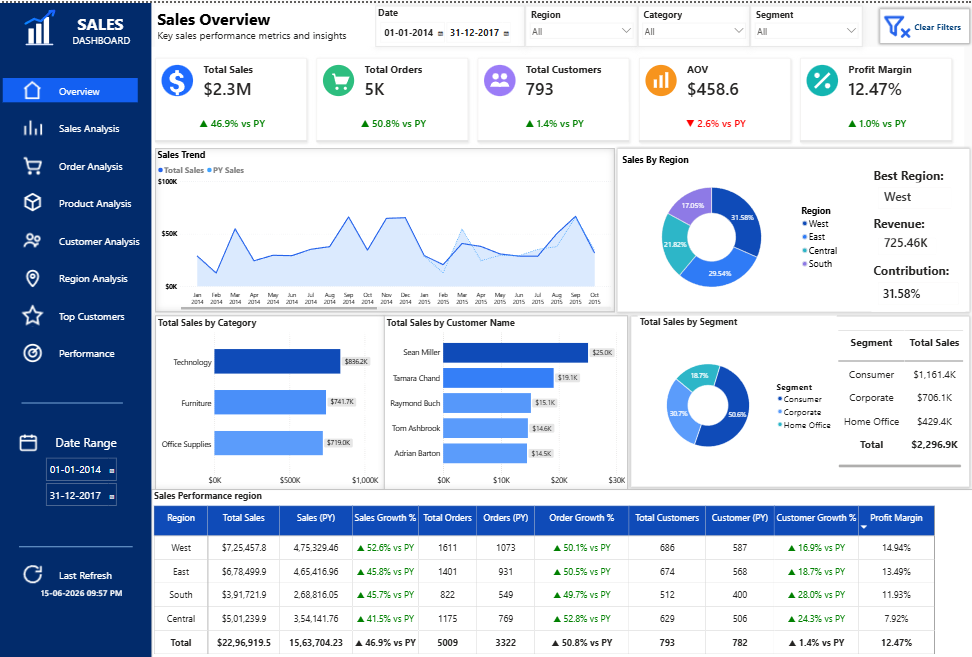

This screenshot's page, from the dashboard's own definition file:
{"tool":"powerbi","page":{"name":"Overview","canvas":[2600,1750],"ordinal":0},"visuals":[{"type":"cardVisual","fields":{"Data":["Factsales.Total Sales","Factsales.Total Orders","Factsales.Total Customers","Factsales.AOV","Factsales.Profit Margin"]},"box":[387.5,115,2187.5,285],"z":0},{"type":"lineChart","title":"Sales Trend","fields":{"Category":["Dimdate.Month Year"],"Y":["Factsales.Total Sales","Factsales.PY Sales"]},"box":[415,387.5,1225,437.5],"z":1000},{"type":"clusteredBarChart","fields":{"Y":["Factsales.Total Sales"],"Category":["Dimproduct.Category"]},"box":[415,832.5,612.5,465],"z":2000},{"type":"clusteredBarChart","fields":{"Category":["Dimcustomer.Customer Name"],"Y":["Factsales.Total Sales"]},"box":[1027.5,832.5,650,465],"z":3000},{"type":"pivotTable","title":"Sales Performance region","fields":{"Rows":["Factsales.Region"],"Values":["Factsales.Total Sales","Factsales.PY Sales","Factsales.Sales Growth Label","Factsales.Total Orders","Factsales.PY Orders","Factsales.Order Growth Label","Factsales.Total Customers","Factsales.PY Customer","Factsales.Customer Growth Label","Factsales.Profit Margin"]},"box":[407.5,1297.5,2192.5,453],"z":4000},{"type":"shape","box":[0,0,406.7,1750],"z":5000},{"type":"textbox","box":[190,20,197.5,130],"z":6000},{"type":"actionButton","box":[10,200,360,65],"z":7000},{"type":"actionButton","box":[10,300,360,65],"z":8000},{"type":"actionButton","box":[10,500,360,66.7],"z":9000},{"type":"slicer","title":"Date","fields":{"Values":["Dimdate.Date"]},"box":[1002.5,7.5,400,110],"z":10000},{"type":"actionButton","box":[10,600,376.7,66.7],"z":11000},{"type":"actionButton","box":[10,700,360,66.7],"z":12000},{"type":"actionButton","box":[10,800,360,66.7],"z":13000},{"type":"actionButton","box":[10,900,360,66.7],"z":14000},{"type":"image","box":[2.5,7.5,225,130],"z":15000},{"type":"shape","box":[60,986.7,270,160],"z":16000},{"type":"actionButton","box":[0,1140,356.7,63.3],"z":17000},{"type":"slicer","fields":{"Values":["Dimdate.Date"]},"box":[113.3,1203.3,243.3,326.7],"z":18000},{"type":"shape","box":[53.3,1370,303.3,160],"z":19000},{"type":"shape","box":[1677.5,825,922.5,472.5],"z":20000},{"type":"shape","box":[1640,380,960,452.5],"z":21000},{"type":"cardVisual","fields":{"Data":["Dimdate.Last Refresh"]},"box":[83.3,1530,323.3,83.3],"z":22000},{"type":"actionButton","box":[10,1490,440,66.7],"z":23000},{"type":"slicer","fields":{"Values":["Factsales.Region"]},"box":[1402.5,7.5,300,110],"z":24000},{"type":"slicer","fields":{"Values":["Factsales.Category"]},"box":[1702.5,7.5,300,110],"z":25000},{"type":"slicer","fields":{"Values":["Factsales.Segment"]},"box":[2002.5,7.5,300,110],"z":26000},{"type":"donutChart","title":"Sales By Region","fields":{"Category":["Factsales.Region"],"Y":["Factsales.Total Sales"]},"box":[1657.5,400,592.5,417.5],"z":27000},{"type":"donutChart","fields":{"Y":["Factsales.Total Sales"],"Category":["Dimcustomer.Segment"]},"box":[1702.5,832.5,530,447.5],"z":28000},{"type":"pivotTable","fields":{"Rows":["Dimcustomer.Segment"],"Values":["Factsales.Total Sales"]},"box":[2232.5,865,342.5,377.5],"z":29000},{"type":"actionButton","box":[2340,7.5,260,110],"z":30000},{"type":"textbox","box":[416.7,6.7,586.7,110],"z":31000},{"type":"cardVisual","title":"Best Region:","fields":{"Data":["Factsales.Top Region"]},"box":[2326.7,436.7,230,130],"z":32000},{"type":"cardVisual","title":"Revenue:","fields":{"Data":["Factsales.Top region sales"]},"box":[2326.7,566.7,190,123.3],"z":33000},{"type":"cardVisual","title":"Contribution:","fields":{"Data":["Factsales.Top region contribution%"]},"box":[2326.7,690,250,133.3],"z":34000},{"type":"actionButton","box":[10,400,360,66.7],"z":35000}]}

Visuals, with their boxes on the page's 2600x1750 design canvas (x1, y1, x2, y2). These are canvas units, not pixel positions in the 972x657 screenshot, which may show the page scaled, cropped or inside an application window:
cardVisual - Factsales.Total Sales x Factsales.Total Orders: x1=388, y1=115, x2=2575, y2=400
"Sales Trend" lineChart: x1=415, y1=388, x2=1640, y2=825
clusteredBarChart - Factsales.Total Sales x Dimproduct.Category: x1=415, y1=832, x2=1028, y2=1298
clusteredBarChart - Dimcustomer.Customer Name x Factsales.Total Sales: x1=1028, y1=832, x2=1678, y2=1298
"Sales Performance region" pivotTable: x1=408, y1=1298, x2=2600, y2=1750
shape: x1=0, y1=0, x2=407, y2=1750
textbox: x1=190, y1=20, x2=388, y2=150
actionButton: x1=10, y1=200, x2=370, y2=265
actionButton: x1=10, y1=300, x2=370, y2=365
actionButton: x1=10, y1=500, x2=370, y2=567
"Date" slicer: x1=1002, y1=8, x2=1402, y2=118
actionButton: x1=10, y1=600, x2=387, y2=667
actionButton: x1=10, y1=700, x2=370, y2=767
actionButton: x1=10, y1=800, x2=370, y2=867
actionButton: x1=10, y1=900, x2=370, y2=967
image: x1=2, y1=8, x2=228, y2=138
shape: x1=60, y1=987, x2=330, y2=1147
actionButton: x1=0, y1=1140, x2=357, y2=1203
slicer - Dimdate.Date: x1=113, y1=1203, x2=357, y2=1530
shape: x1=53, y1=1370, x2=357, y2=1530
shape: x1=1678, y1=825, x2=2600, y2=1298
shape: x1=1640, y1=380, x2=2600, y2=832
cardVisual - Dimdate.Last Refresh: x1=83, y1=1530, x2=407, y2=1613
actionButton: x1=10, y1=1490, x2=450, y2=1557
slicer - Factsales.Region: x1=1402, y1=8, x2=1702, y2=118
slicer - Factsales.Category: x1=1702, y1=8, x2=2002, y2=118
slicer - Factsales.Segment: x1=2002, y1=8, x2=2302, y2=118
"Sales By Region" donutChart: x1=1658, y1=400, x2=2250, y2=818
donutChart - Factsales.Total Sales x Dimcustomer.Segment: x1=1702, y1=832, x2=2232, y2=1280
pivotTable - Dimcustomer.Segment x Factsales.Total Sales: x1=2232, y1=865, x2=2575, y2=1242
actionButton: x1=2340, y1=8, x2=2600, y2=118
textbox: x1=417, y1=7, x2=1003, y2=117
"Best Region:" cardVisual: x1=2327, y1=437, x2=2557, y2=567
"Revenue:" cardVisual: x1=2327, y1=567, x2=2517, y2=690
"Contribution:" cardVisual: x1=2327, y1=690, x2=2577, y2=823
actionButton: x1=10, y1=400, x2=370, y2=467
